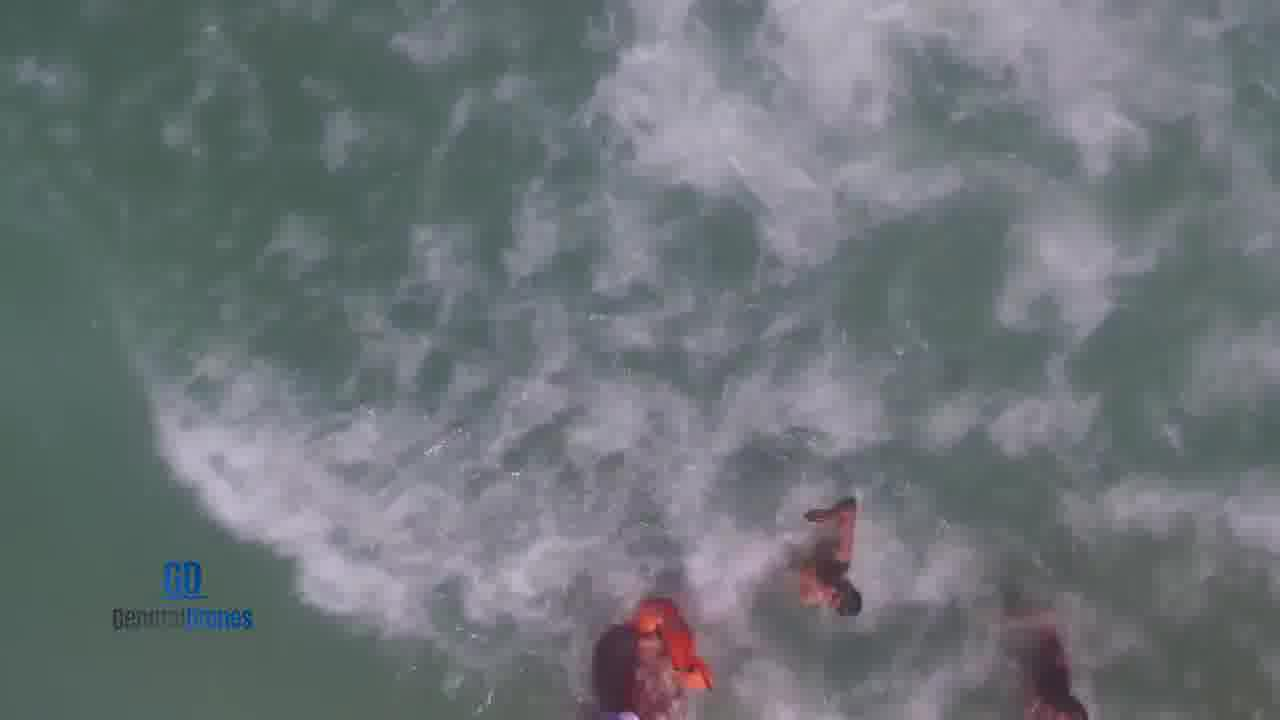human: (985, 590, 1098, 720), (782, 480, 870, 626), (571, 609, 677, 720)
